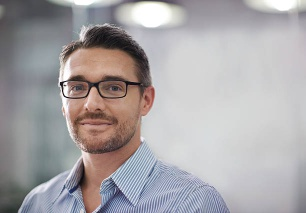male: (50, 41, 150, 155)
